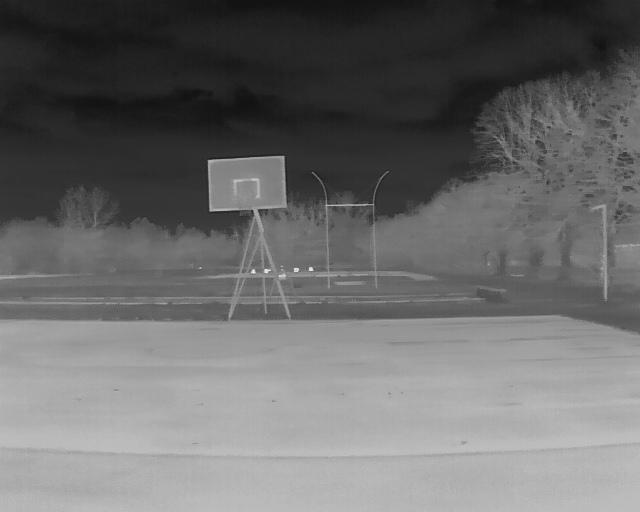drone: (235, 264, 320, 308)
